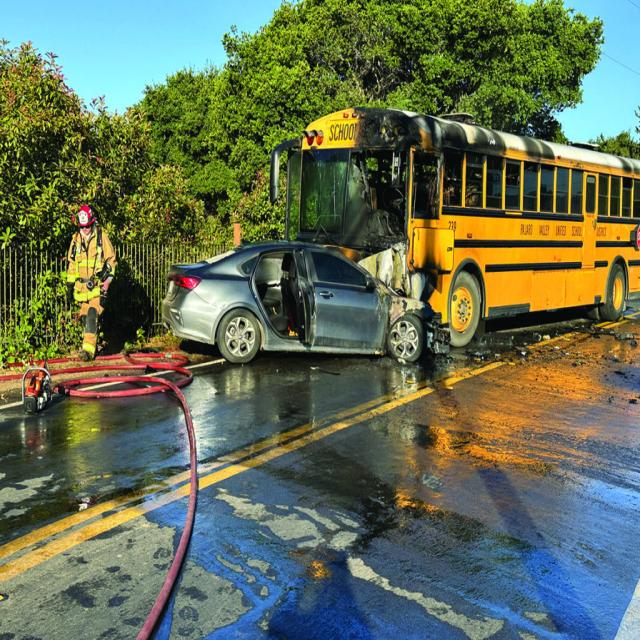Accident: (159, 104, 640, 376)
